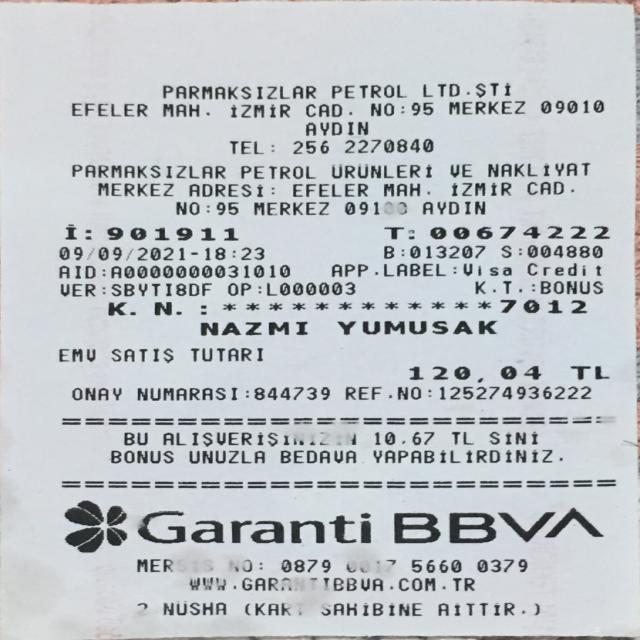text: (136, 508, 371, 543), (392, 506, 603, 542), (189, 575, 473, 593), (343, 383, 588, 402), (161, 429, 434, 445), (372, 448, 550, 464), (112, 262, 287, 278), (336, 318, 494, 334), (429, 224, 606, 238), (107, 223, 237, 241), (71, 162, 222, 177), (162, 83, 314, 97), (135, 384, 235, 403), (330, 261, 443, 277), (110, 279, 210, 297), (199, 320, 305, 336), (328, 162, 434, 177), (264, 278, 352, 296), (485, 161, 588, 176), (139, 244, 224, 261), (498, 298, 588, 314), (252, 384, 327, 402), (136, 556, 213, 573), (421, 81, 508, 96), (290, 179, 366, 196), (322, 602, 421, 615), (330, 81, 404, 98), (97, 180, 171, 197), (446, 99, 524, 115), (342, 138, 431, 152), (70, 101, 146, 117), (188, 448, 263, 464), (188, 180, 262, 196), (280, 448, 354, 464), (525, 260, 598, 276), (408, 364, 469, 383), (190, 344, 260, 360), (252, 199, 326, 214), (529, 243, 602, 258), (109, 345, 171, 362), (239, 162, 314, 176), (410, 243, 484, 257), (540, 98, 603, 114), (420, 198, 483, 214), (110, 448, 172, 464), (538, 279, 604, 294), (230, 100, 288, 117), (435, 602, 517, 614), (344, 198, 405, 214), (163, 599, 224, 615), (450, 180, 510, 196), (70, 384, 120, 403), (280, 556, 329, 574), (411, 556, 460, 574), (476, 556, 525, 574), (256, 599, 305, 615), (341, 558, 396, 572), (304, 121, 368, 133), (489, 429, 536, 445), (569, 362, 608, 381), (499, 363, 540, 381), (473, 278, 512, 295), (460, 263, 510, 276), (54, 347, 96, 362), (525, 179, 562, 196), (382, 179, 418, 196), (162, 100, 197, 117), (303, 100, 340, 116), (55, 263, 92, 279), (60, 280, 94, 297), (291, 138, 326, 154), (228, 138, 261, 154), (96, 244, 124, 261), (153, 299, 180, 316), (106, 300, 134, 316), (230, 556, 253, 574), (58, 244, 82, 261), (225, 279, 249, 296), (369, 100, 393, 116), (174, 199, 197, 215), (124, 429, 147, 445), (409, 99, 431, 115), (448, 161, 469, 177), (450, 429, 471, 445), (216, 200, 237, 216), (244, 244, 262, 261), (62, 223, 78, 242), (382, 224, 401, 238), (134, 602, 150, 616), (257, 556, 267, 574), (100, 263, 109, 279), (382, 243, 392, 257), (127, 244, 134, 261), (476, 363, 482, 382), (245, 599, 252, 615), (87, 244, 93, 261), (233, 244, 239, 261), (504, 243, 511, 257), (516, 243, 523, 257), (198, 299, 204, 315), (406, 224, 412, 238), (205, 100, 208, 117), (100, 280, 103, 297), (269, 138, 272, 154), (347, 100, 349, 116), (400, 99, 402, 115), (205, 199, 207, 215), (452, 260, 453, 277), (257, 279, 258, 296), (270, 180, 271, 196), (401, 243, 402, 257)
